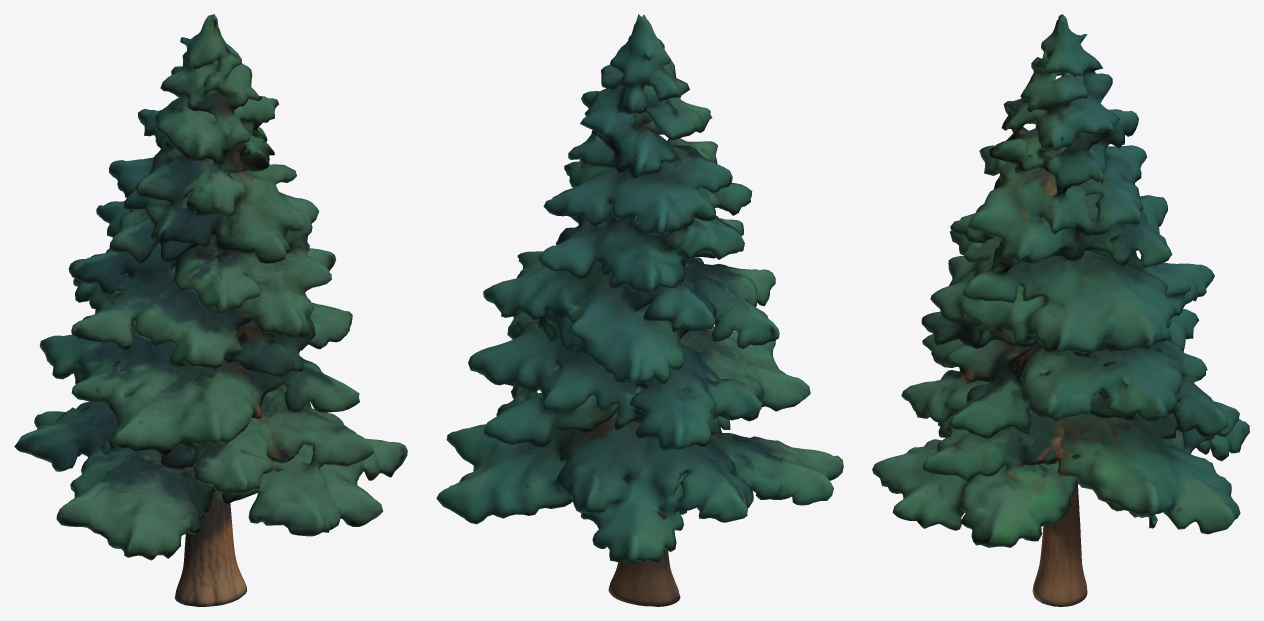
The model's file is Pine.glb.
3 views of the same model, side by side, from view 1: azimuth 30°, elevation 25°; view 2: azimuth 150°, elevation 25°; view 3: azimuth 270°, elevation 25° (orthographic).
Size of the model in its own units: 1.2 by 1.99 by 1.18.
1 material, 1 textured.
